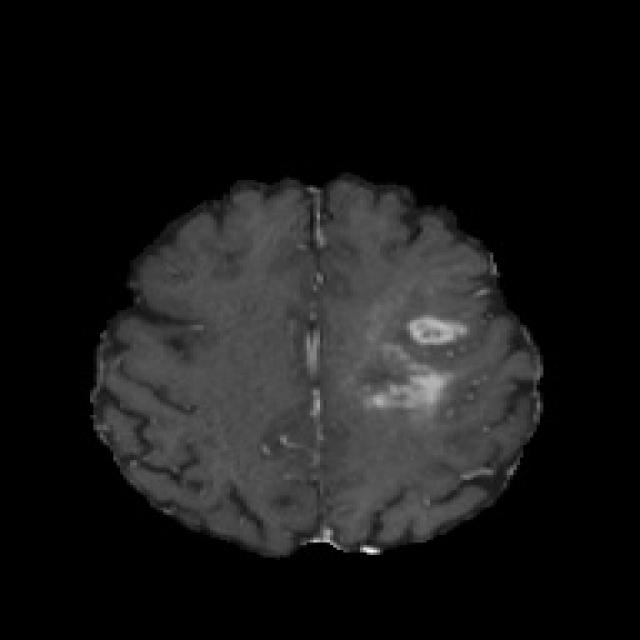positive: (350, 342, 447, 410), (405, 314, 465, 346)
